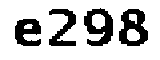2: (46, 8, 81, 51)
8: (116, 8, 151, 50)
9: (82, 6, 114, 49)
e: (11, 16, 43, 50)
